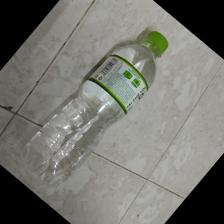Dasani: (20, 29, 169, 191)
